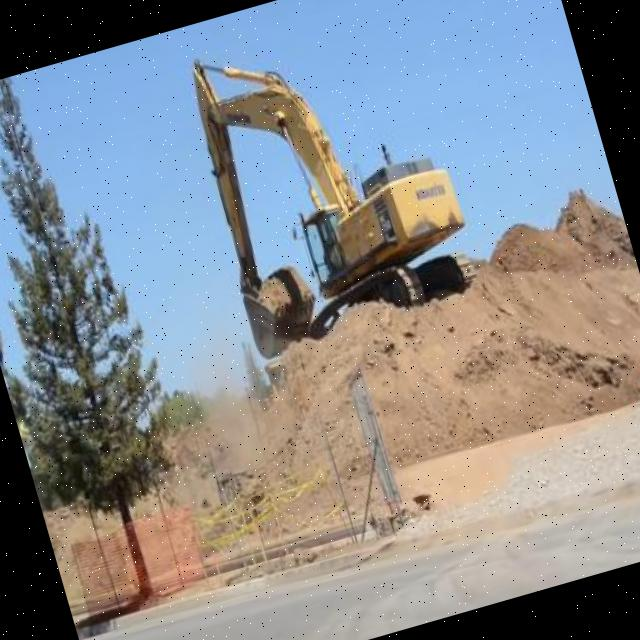Excavator: (148, 0, 492, 371)
